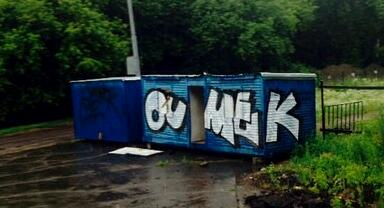graffity: (144, 80, 301, 155)
